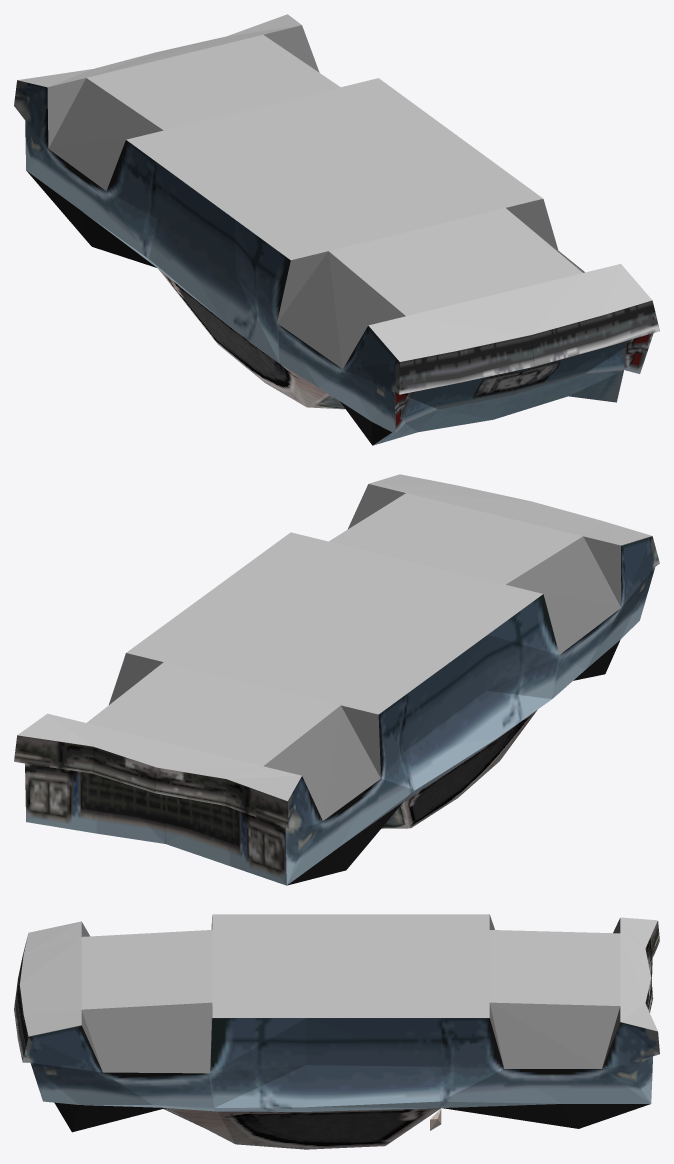
Rendered from CHICAGO_model3_damaged.obj.
3 views of the same model, one above another, from view 1: azimuth 30°, elevation 25°; view 2: azimuth 150°, elevation 25°; view 3: azimuth 270°, elevation 25° (orthographic). The views are drawn at different scales.
Visible parts, largest first — view 1: CHICAGO_model3_damaged; view 2: CHICAGO_model3_damaged; view 3: CHICAGO_model3_damaged.
Boxes of the visible parts, x1,y1,x2,y2 form: CHICAGO_model3_damaged: (14,14,659,445); CHICAGO_model3_damaged: (14,474,659,885); CHICAGO_model3_damaged: (14,914,659,1149).
Bounding box in the file's own units: 290 × 168 × 668.
